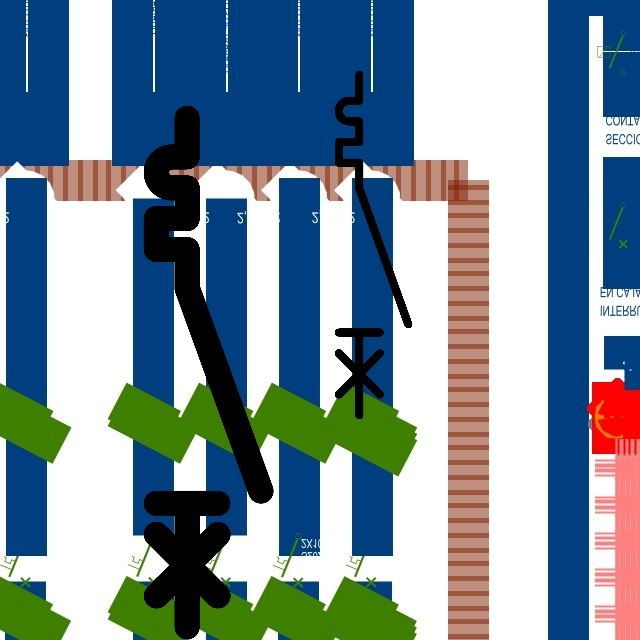interruptor_termomagnetico: (143, 105, 274, 639), (330, 66, 417, 424)
